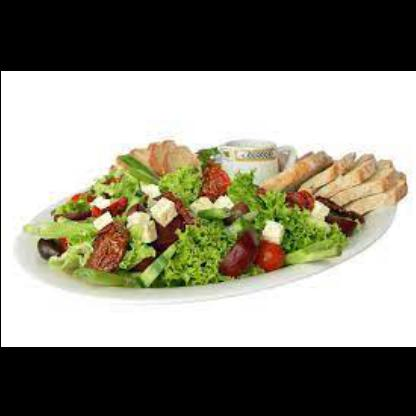salad: (23, 162, 364, 286)
